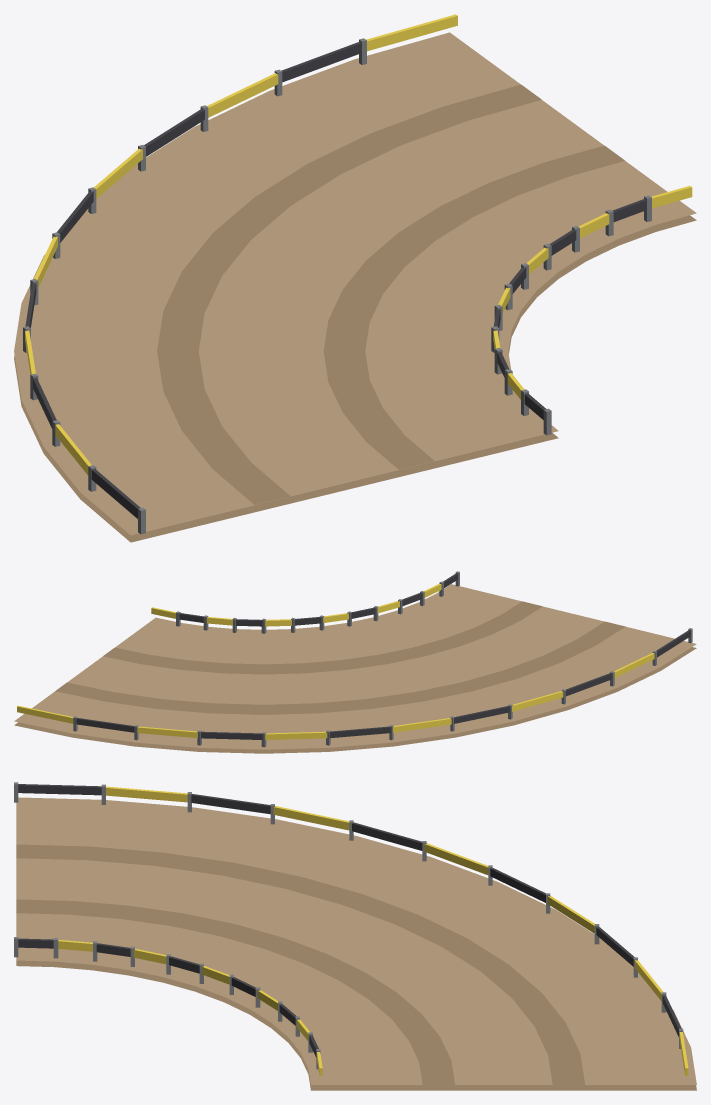
File: wasteland_track_curve_right.glb
3 renders of one model, top to bottom at view 1: azimuth 30°, elevation 25°; view 2: azimuth 150°, elevation 25°; view 3: azimuth 270°, elevation 25°, orthographic. The views are drawn at different scales.
Parts seen in each view (by area): view 1: Track_CurveRight; view 2: Track_CurveRight; view 3: Track_CurveRight.
Boxes of the visible parts, x1,y1,x2,y2 form: Track_CurveRight: (14,14,696,542); Track_CurveRight: (14,571,696,753); Track_CurveRight: (14,782,696,1090).
Size of the model in its own units: 33.53 by 1.3 by 33.61.
